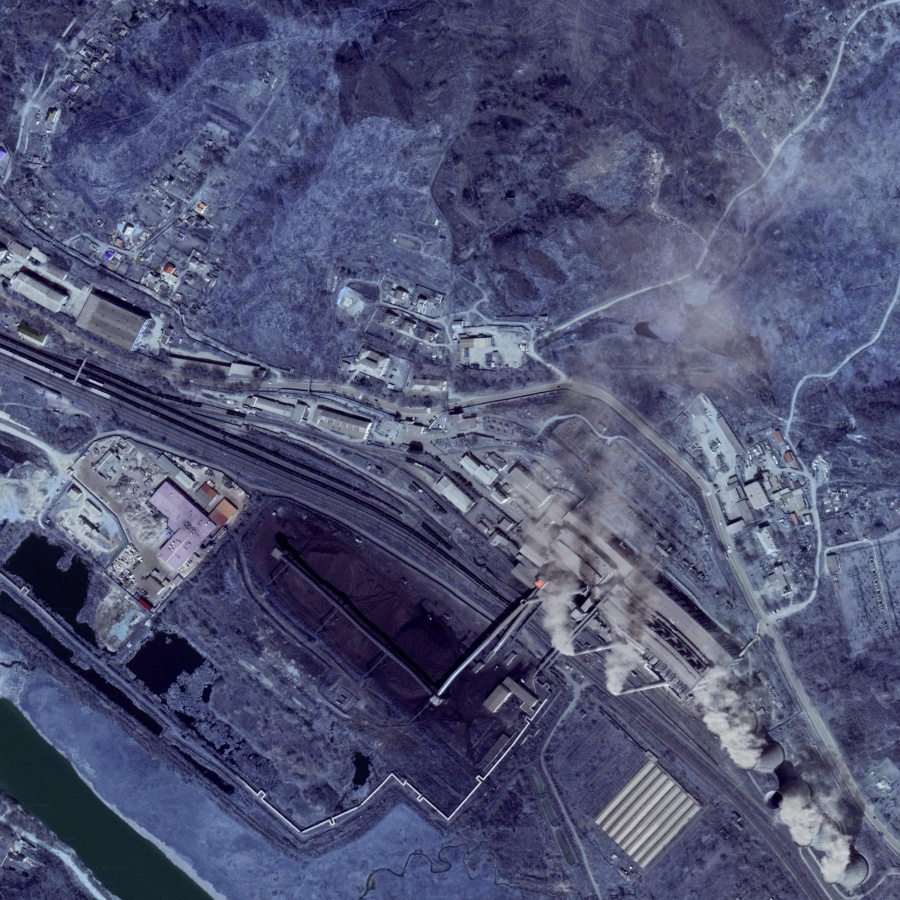PowerPlant: (247, 454, 688, 747)
